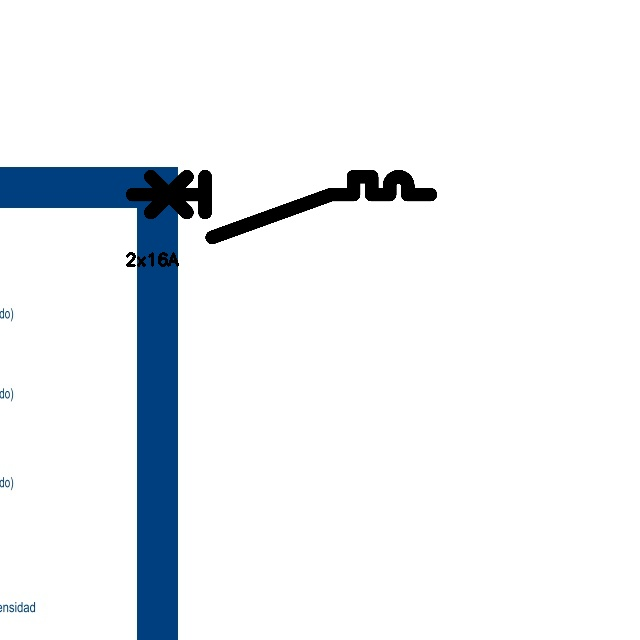interruptor_termomagnetico: (125, 169, 438, 245)
